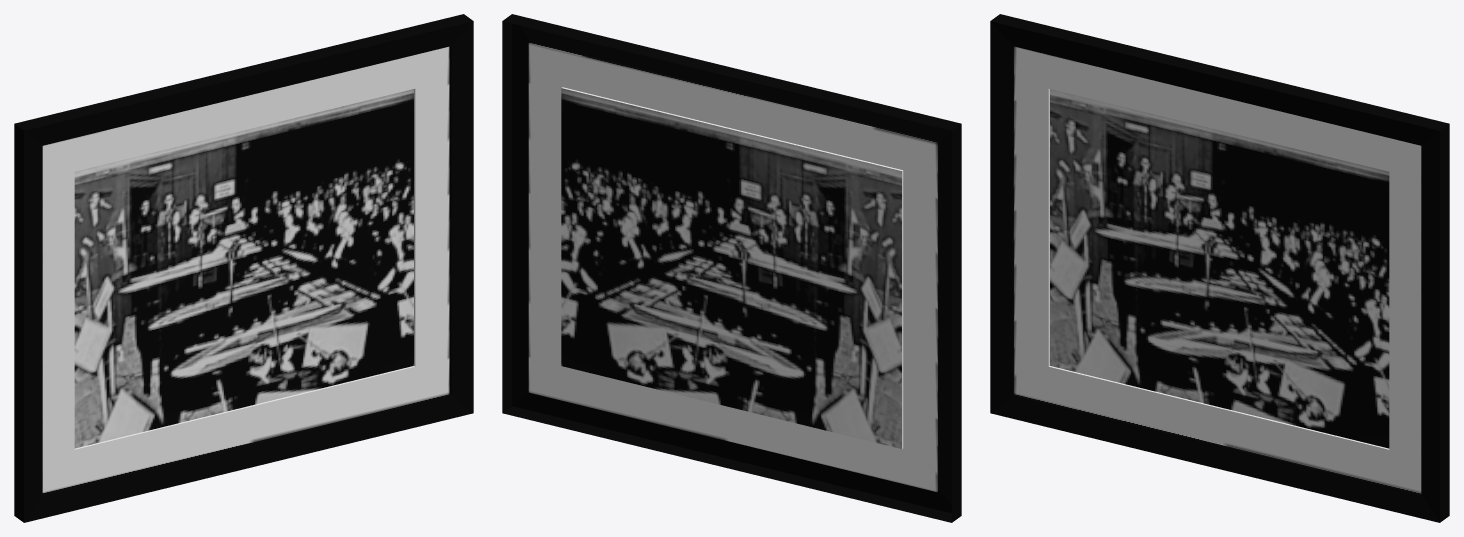
The model's file is SCr_Frame_Photo10.fbx.
The picture shows the model from 3 angles, left to right: view 1: azimuth 30°, elevation 25°; view 2: azimuth 150°, elevation 25°; view 3: azimuth 330°, elevation 25°; orthographic projection.
Visible parts, largest first — view 1: SCr_Frame_Photo10; view 2: SCr_Frame_Photo10; view 3: SCr_Frame_Photo10.
Boxes of the visible parts, bbox=[...] form: SCr_Frame_Photo10: bbox=[14, 14, 473, 522]; SCr_Frame_Photo10: bbox=[502, 14, 961, 522]; SCr_Frame_Photo10: bbox=[990, 14, 1449, 522].
Size of the model in its own units: 0.66 by 0.55 by 0.025.
